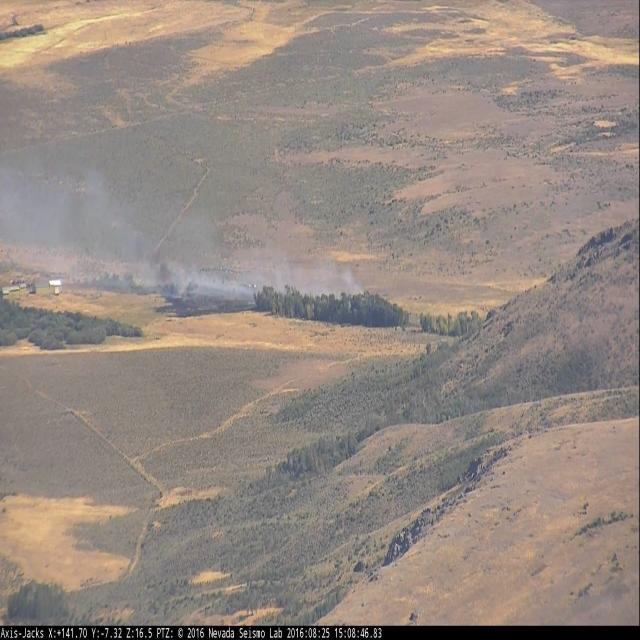smoke: (0, 159, 362, 312)
